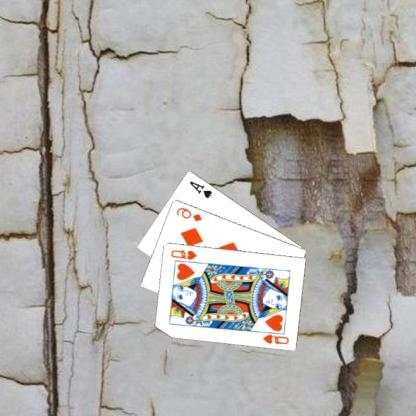6D: (175, 204, 205, 223)
AS: (188, 178, 216, 199)
QH: (259, 328, 292, 345), (169, 247, 200, 261)
